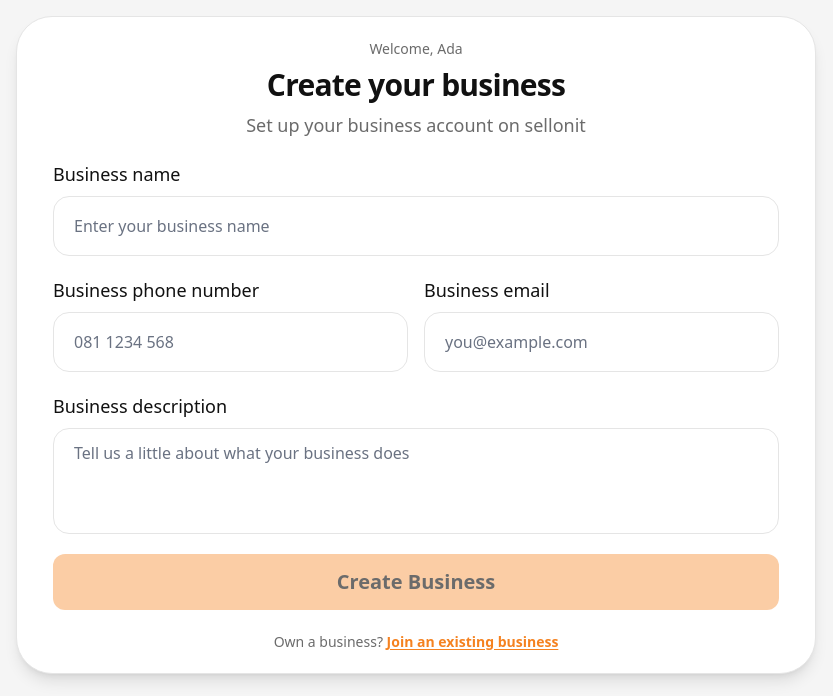
Test case: Create Business screen › treats the Join an existing business footer as a coming-soon placeholder
The width and height of the screenshot is (833, 696).
Click the button "Join an existing business": [472, 642] box x1=387 y1=632 x2=558 y2=652
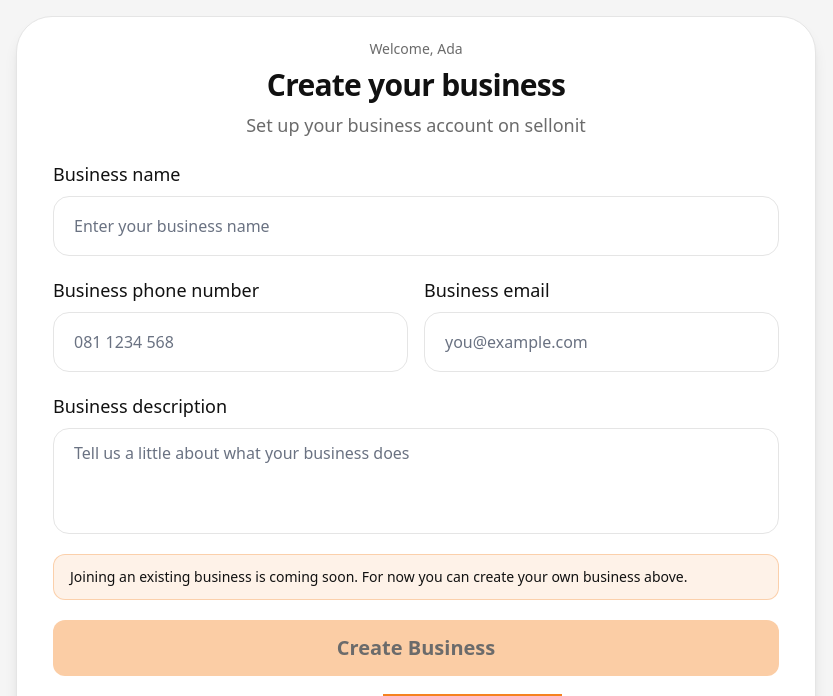
Result: the text "Joining an existing business is coming soon" is shown at x1=70 y1=567 x2=688 y2=586
